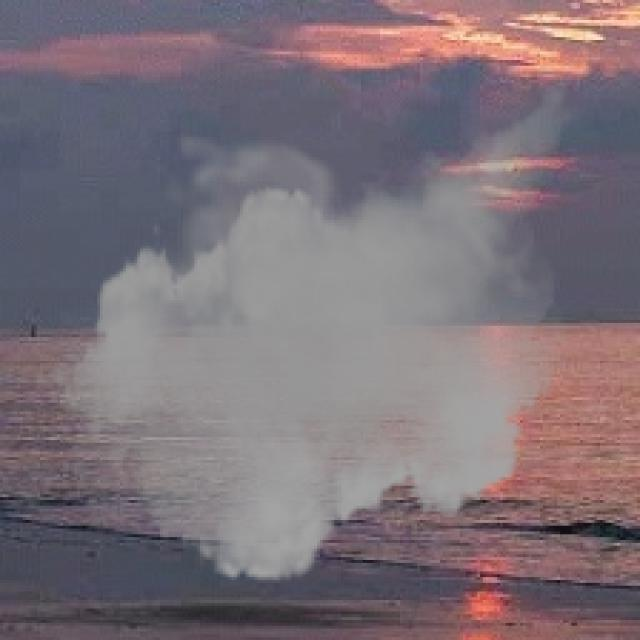Smoke: (34, 45, 586, 598)
